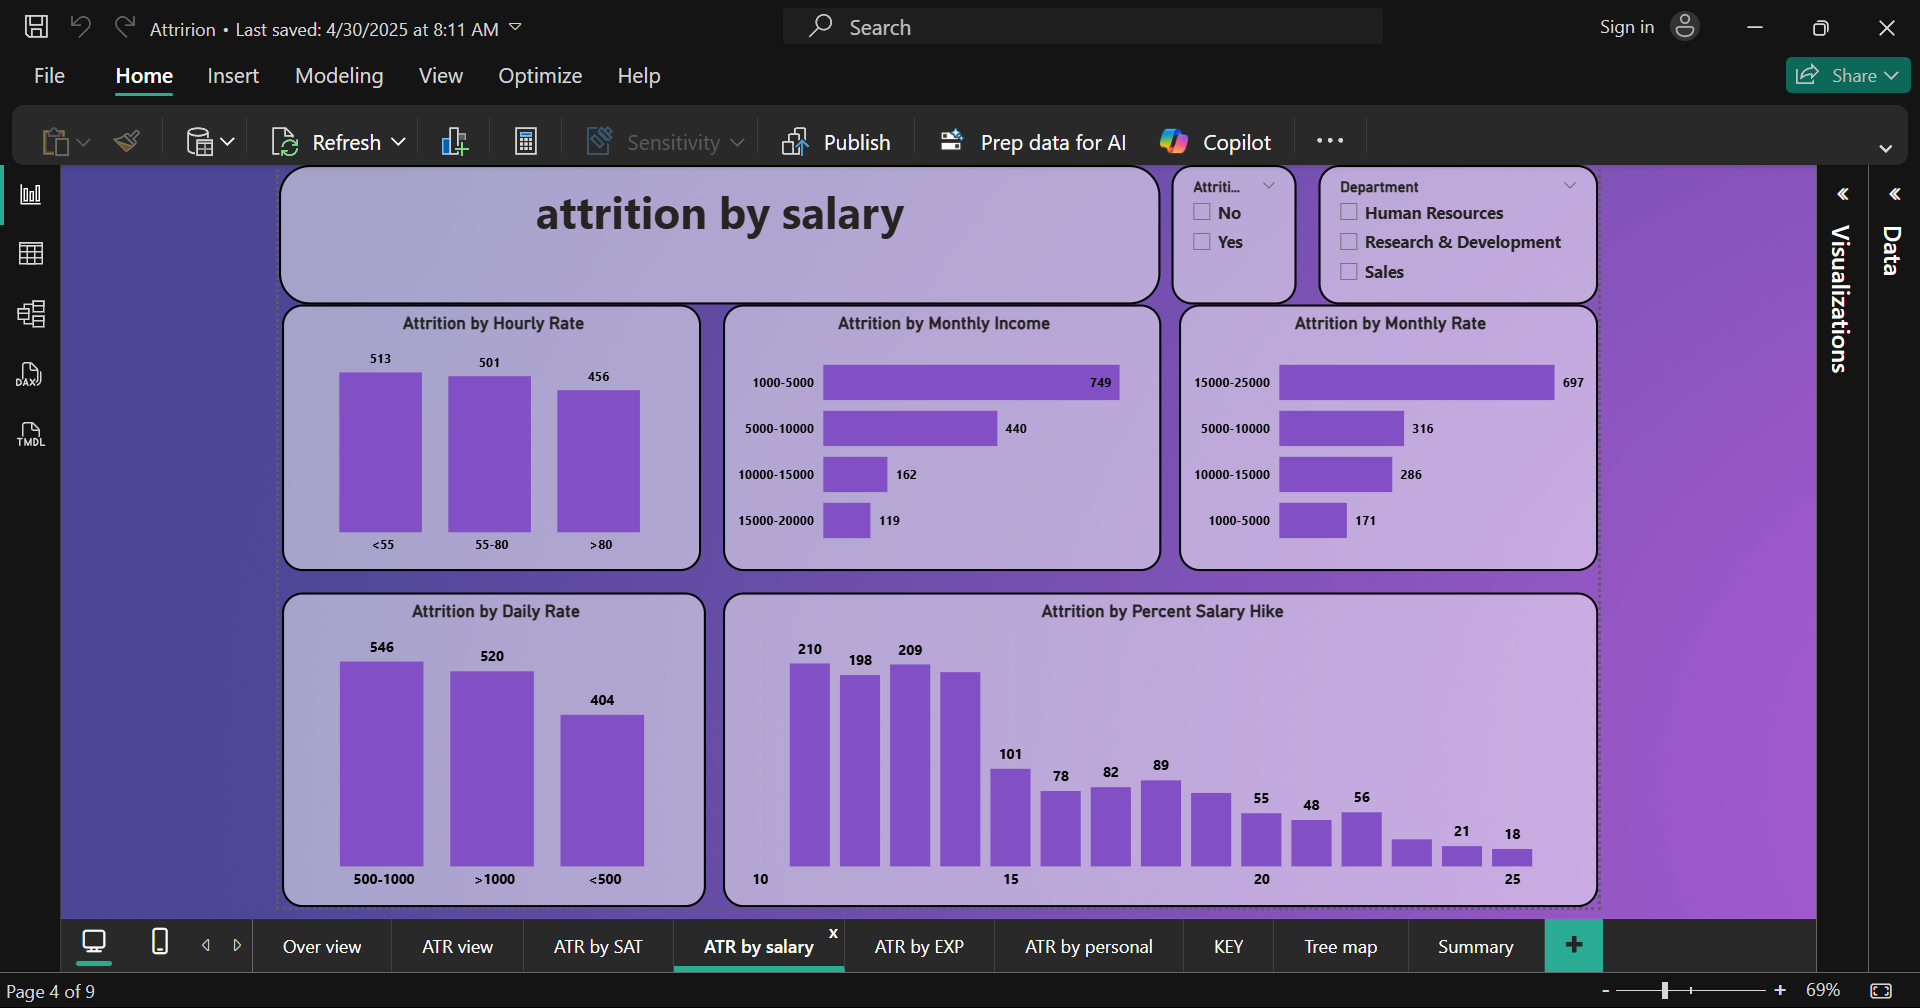

This screenshot's page, from the dashboard's own definition file:
{"tool":"powerbi","page":{"name":"ATR by salary","canvas":[1280,720],"ordinal":3},"visuals":[{"type":"clusteredColumnChart","title":"Attrition by Percent Salary Hike","fields":{"Category":["clean data.PercentSalaryHike"],"Y":["CountNonNull(clean data.Attrition)"]},"box":[430.1,414.5,849.4,305.5],"z":0},{"type":"textbox","box":[0,0,855.6,135.6],"z":1000},{"type":"clusteredColumnChart","title":"Attrition by Daily Rate","fields":{"Category":["clean data.DailyRate (groups)"],"Y":["CountNonNull(clean data.Attrition)"]},"box":[3.1,414.5,411.4,305.5],"z":2000},{"type":"clusteredColumnChart","title":"Attrition by Hourly Rate","fields":{"Category":["clean data.HourlyRate (groups)"],"Y":["CountNonNull(clean data.Attrition)"]},"box":[3.1,135.6,406.8,258.7],"z":3000},{"type":"clusteredBarChart","title":"Attrition by Monthly Income","fields":{"Category":["clean data.MonthlyIncome (groups)"],"Y":["CountNonNull(clean data.Attrition)"]},"box":[430.1,135.6,425.5,258.7],"z":4000},{"type":"clusteredBarChart","title":"Attrition by Monthly Rate","fields":{"Category":["clean data.MonthlyRate (groups)"],"Y":["CountNonNull(clean data.Attrition)"]},"box":[872.7,135.6,406.8,258.7],"z":5000},{"type":"slicer","fields":{"Values":["clean data.Department"]},"box":[1008.3,0,271.2,135.6],"z":6000},{"type":"slicer","fields":{"Values":["clean data.Attrition"]},"box":[866.5,0,121.6,135.6],"z":7000}]}

Visuals, with their boxes on the page's 1280x720 design canvas (x1, y1, x2, y2). These are canvas units, not pixel positions in the 1920x1008 screenshot, which may show the page scaled, cropped or inside an application window:
"Attrition by Percent Salary Hike" clusteredColumnChart: crop(430, 414, 1280, 720)
textbox: crop(0, 0, 856, 136)
"Attrition by Daily Rate" clusteredColumnChart: crop(3, 414, 414, 720)
"Attrition by Hourly Rate" clusteredColumnChart: crop(3, 136, 410, 394)
"Attrition by Monthly Income" clusteredBarChart: crop(430, 136, 856, 394)
"Attrition by Monthly Rate" clusteredBarChart: crop(873, 136, 1280, 394)
slicer - clean data.Department: crop(1008, 0, 1280, 136)
slicer - clean data.Attrition: crop(866, 0, 988, 136)
